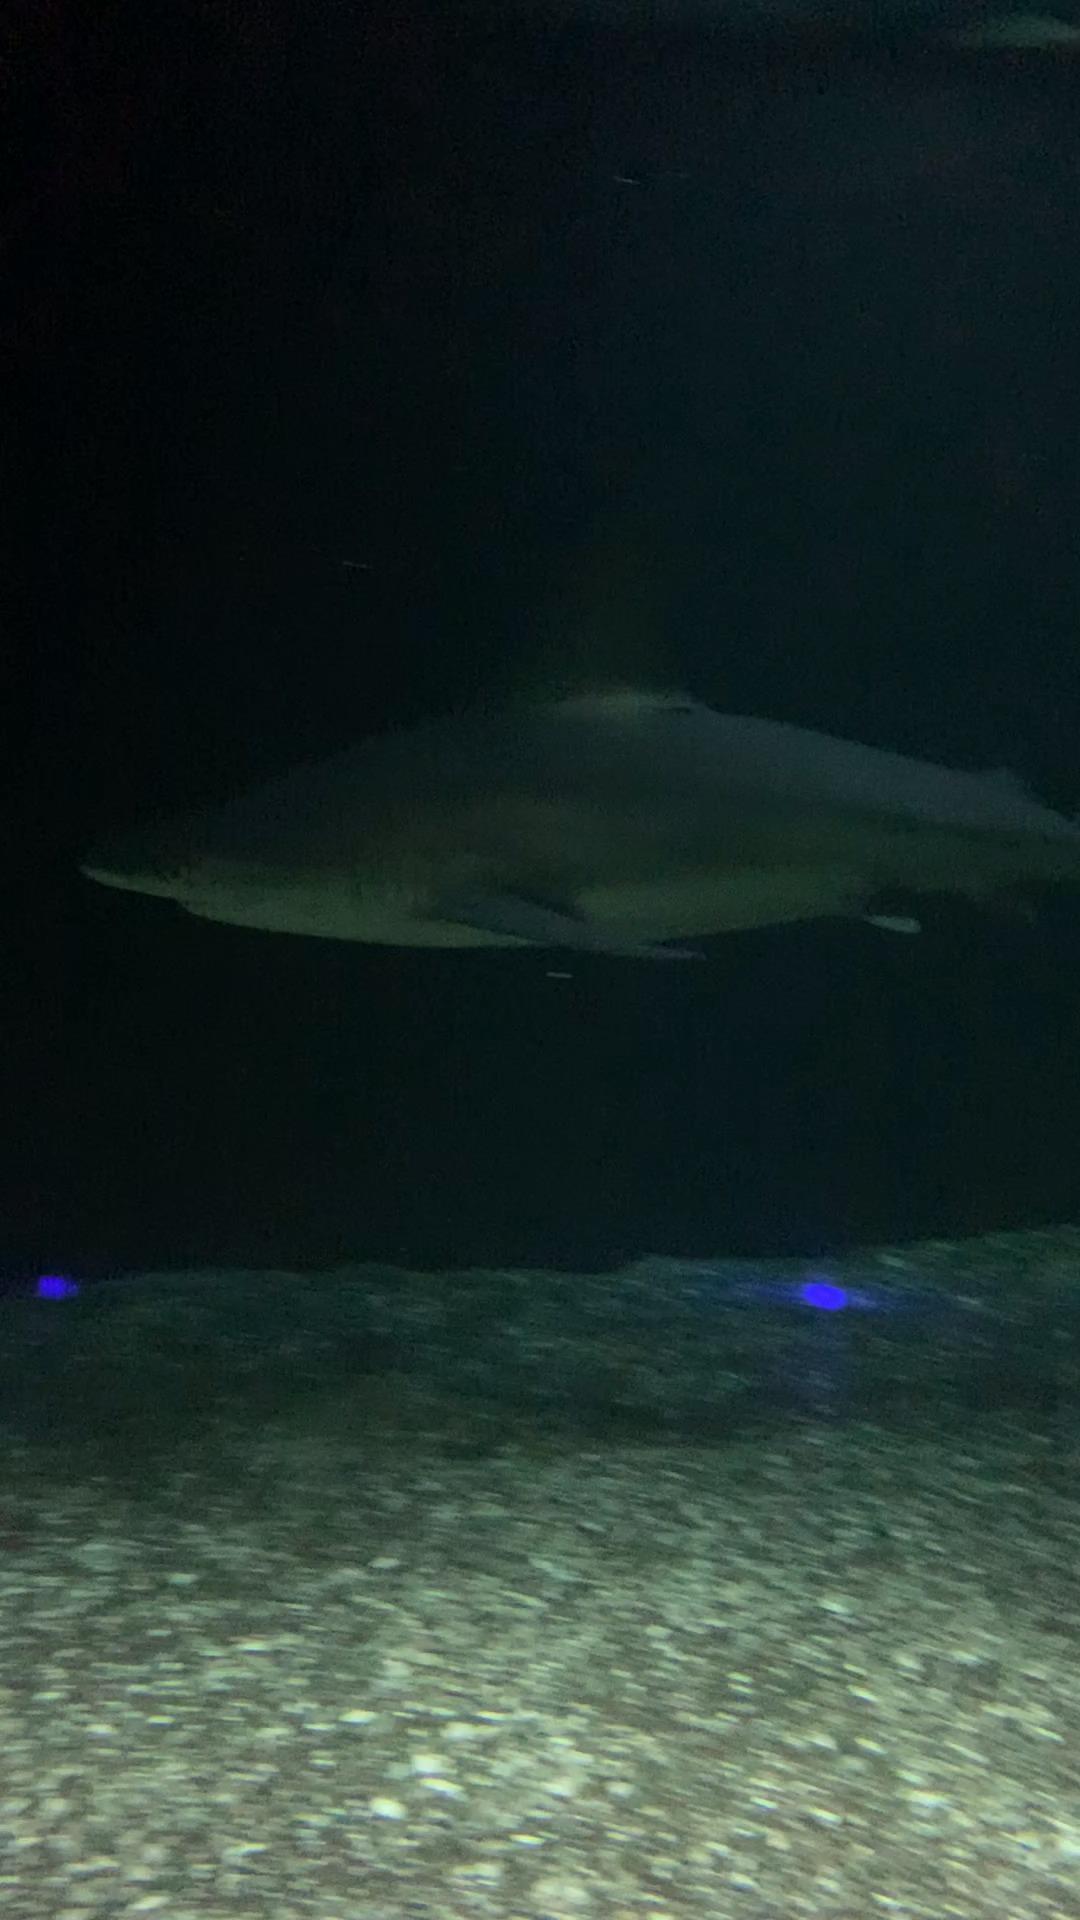shark: (75, 564, 1080, 960)
